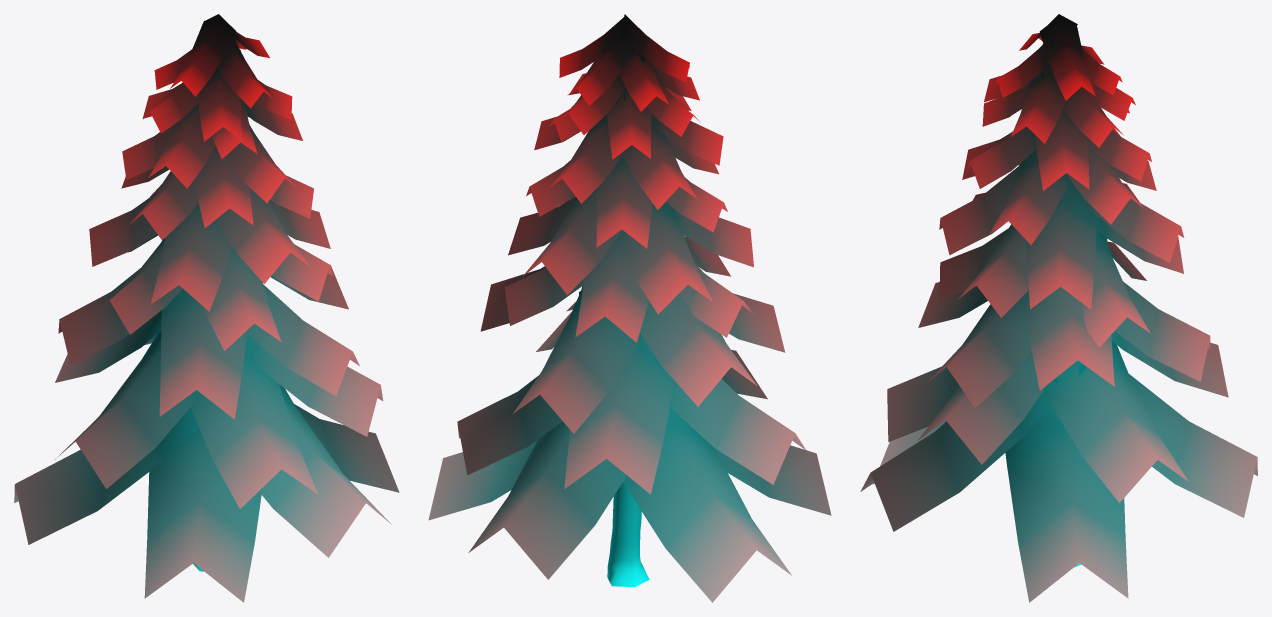
The model's file is PineTree01.fbx.
3 renders of one model, left to right at view 1: azimuth 30°, elevation 25°; view 2: azimuth 150°, elevation 25°; view 3: azimuth 270°, elevation 25°, orthographic. The views are drawn at different scales.
Visible parts, largest first — view 1: PineTree01_LOD0; view 2: PineTree01_LOD0; view 3: PineTree01_LOD0.
Part boxes in pixels (box(x1,y1,x2,y2)): PineTree01_LOD0: box(14, 14, 399, 602); PineTree01_LOD0: box(428, 14, 831, 602); PineTree01_LOD0: box(860, 14, 1257, 602).
Size of the model in its own units: 415 by 633 by 415.
